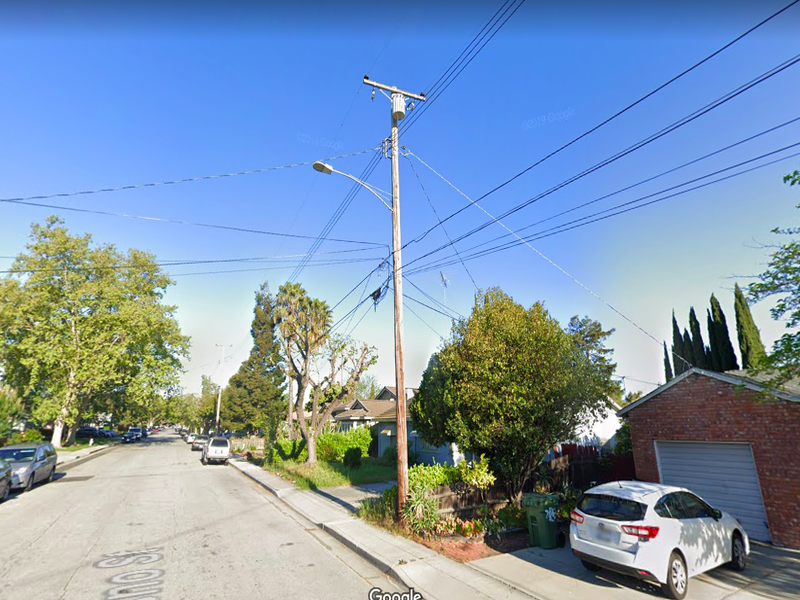tree: (409, 284, 626, 510), (1, 212, 192, 451)
utility_pole: (350, 61, 433, 170)
